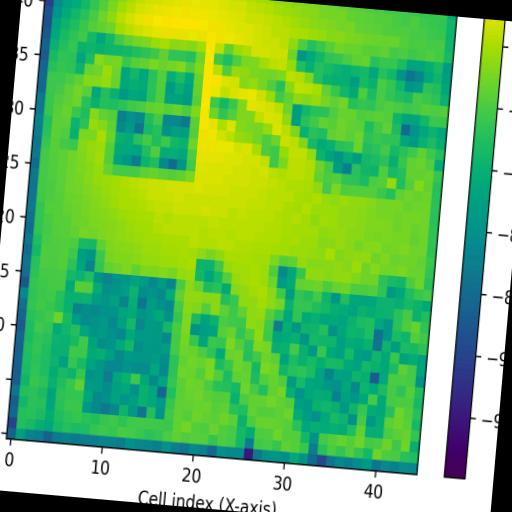Concrete: (306, 52, 415, 199)
Glass: (103, 34, 206, 182)
Metal: (282, 278, 397, 438)
Wood: (82, 272, 177, 422)
